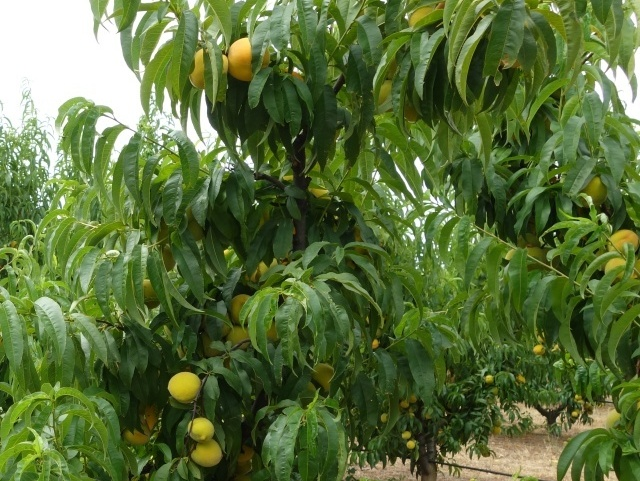peach: (183, 41, 232, 91), (227, 33, 273, 84), (164, 369, 206, 409), (226, 291, 262, 327), (181, 411, 216, 447), (607, 221, 639, 260), (306, 361, 340, 395), (223, 320, 256, 354), (190, 439, 225, 471), (118, 417, 152, 449), (601, 254, 637, 284), (584, 171, 611, 209)
